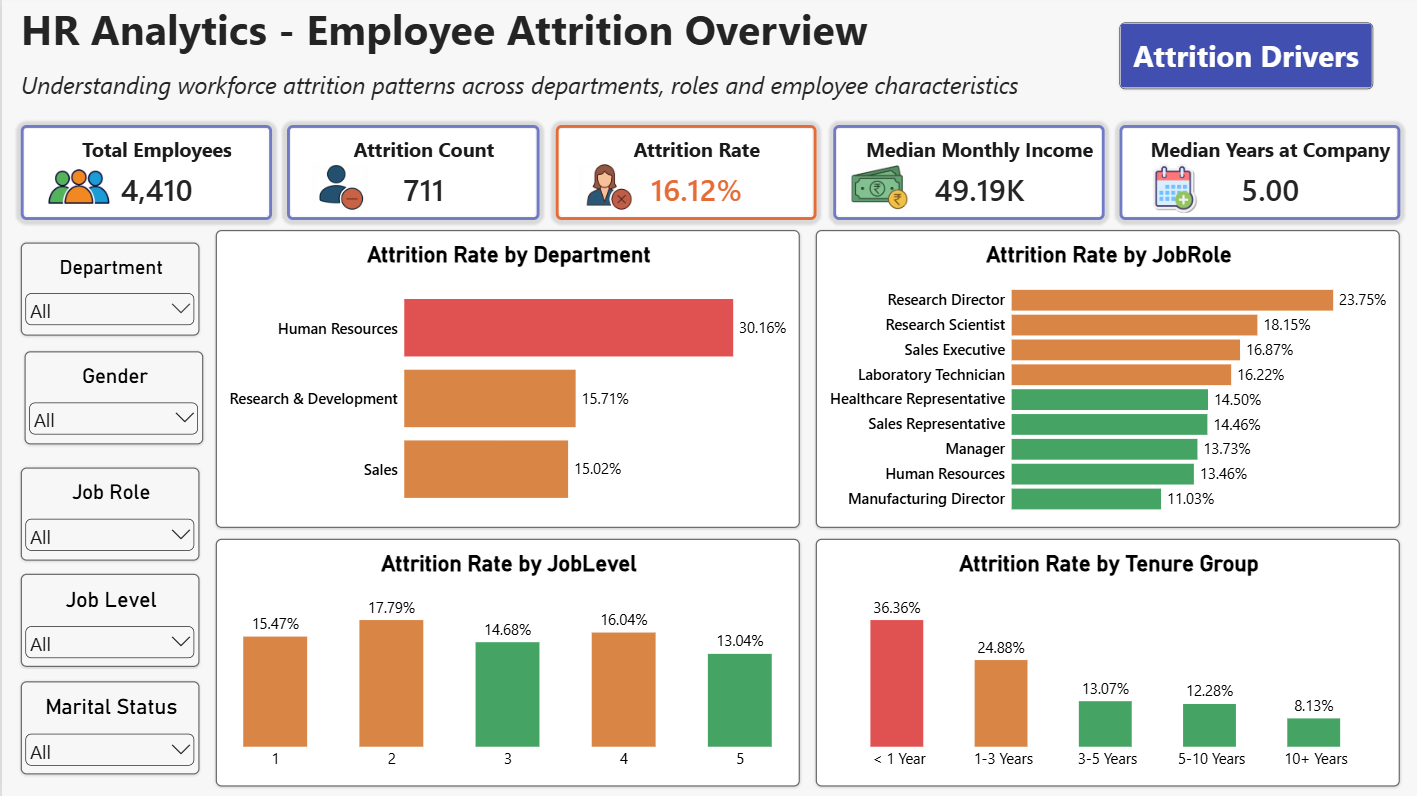

This screenshot's page, from the dashboard's own definition file:
{"tool":"powerbi","page":{"name":"Overview","canvas":[1920,1080],"ordinal":0},"visuals":[{"type":"cardVisual","fields":{"Data":["hr_employee_master.Total Employees"]},"box":[25.8,169.3,340.5,128.8],"z":0},{"type":"cardVisual","fields":{"Data":["hr_employee_master.Attrition Count"]},"box":[386.5,169.3,342.3,128.8],"z":1000},{"type":"cardVisual","fields":{"Data":["hr_employee_master.Attrition Rate"]},"box":[750.9,169.3,353.4,128.8],"z":2000},{"type":"cardVisual","fields":{"Data":["hr_employee_master.Median Monthly Income"]},"box":[1126.4,169.3,368.1,128.8],"z":3000},{"type":"textbox","box":[25.8,0,1365.7,149.1],"z":4000},{"type":"clusteredBarChart","title":"Attrition Rate by JobRole","fields":{"Category":["hr_employee_master.JobRole"],"Y":["hr_employee_master.Attrition Rate"]},"box":[1104,312,792,404],"z":5000},{"type":"cardVisual","fields":{"Data":["hr_employee_master.Median Years at Company"]},"box":[1514.7,169.3,381,128.8],"z":6000},{"type":"clusteredBarChart","title":"Attrition Rate by Department","fields":{"Category":["hr_employee_master.Department"],"Y":["hr_employee_master.Attrition Rate"]},"box":[290,312,792,404],"z":7000},{"type":"columnChart","title":"Attrition Rate by JobLevel","fields":{"Category":["hr_employee_master.JobLevel"],"Y":["hr_employee_master.Attrition Rate"]},"box":[290,730,792,336],"z":8000},{"type":"columnChart","title":"Attrition Rate by Tenure Group","fields":{"Category":["hr_employee_master.Tenure Group"],"Y":["hr_employee_master.Attrition Rate"]},"box":[1104,730,792,336],"z":9000},{"type":"slicer","title":"Department ","fields":{"Values":["hr_employee_master.Department"]},"box":[26,328,242,126],"z":10000},{"type":"slicer","title":"Gender","fields":{"Values":["hr_employee_master.Gender"]},"box":[30,476,242,126],"z":11000},{"type":"slicer","title":"Job Role","fields":{"Values":["hr_employee_master.JobRole"]},"box":[26,634,242,126],"z":12000},{"type":"slicer","title":"Job Level","fields":{"Values":["hr_employee_master.JobLevel"]},"box":[26,778,242,126],"z":13000},{"type":"slicer","title":"Marital Status","fields":{"Values":["hr_employee_master.MaritalStatus"]},"box":[26,924,242,126],"z":14000},{"type":"image","box":[60,220,88,64],"z":15000},{"type":"image","box":[412,220,94,66],"z":16000},{"type":"image","box":[774,220,94,66],"z":17000},{"type":"image","box":[1142,220,94,66],"z":18000},{"type":"image","box":[1540,222,94,66],"z":19000},{"type":"pageNavigator","box":[1514.7,31.3,344.2,90.2],"z":19001}]}

Visuals, with their boxes in screenshot pixels (x1, y1, x2, y2), scaled from the page's 1920x1080 canvas onto the 1417x796 screenshot:
cardVisual - hr_employee_master.Total Employees: (x1=19, y1=125, x2=270, y2=220)
cardVisual - hr_employee_master.Attrition Count: (x1=285, y1=125, x2=538, y2=220)
cardVisual - hr_employee_master.Attrition Rate: (x1=554, y1=125, x2=815, y2=220)
cardVisual - hr_employee_master.Median Monthly Income: (x1=831, y1=125, x2=1103, y2=220)
textbox: (x1=19, y1=0, x2=1027, y2=110)
"Attrition Rate by JobRole" clusteredBarChart: (x1=815, y1=230, x2=1399, y2=528)
cardVisual - hr_employee_master.Median Years at Company: (x1=1118, y1=125, x2=1399, y2=220)
"Attrition Rate by Department" clusteredBarChart: (x1=214, y1=230, x2=799, y2=528)
"Attrition Rate by JobLevel" columnChart: (x1=214, y1=538, x2=799, y2=786)
"Attrition Rate by Tenure Group" columnChart: (x1=815, y1=538, x2=1399, y2=786)
"Department " slicer: (x1=19, y1=242, x2=198, y2=335)
"Gender" slicer: (x1=22, y1=351, x2=201, y2=444)
"Job Role" slicer: (x1=19, y1=467, x2=198, y2=560)
"Job Level" slicer: (x1=19, y1=573, x2=198, y2=666)
"Marital Status" slicer: (x1=19, y1=681, x2=198, y2=774)
image: (x1=44, y1=162, x2=109, y2=209)
image: (x1=304, y1=162, x2=373, y2=211)
image: (x1=571, y1=162, x2=641, y2=211)
image: (x1=843, y1=162, x2=912, y2=211)
image: (x1=1137, y1=164, x2=1206, y2=212)
pageNavigator: (x1=1118, y1=23, x2=1372, y2=90)
